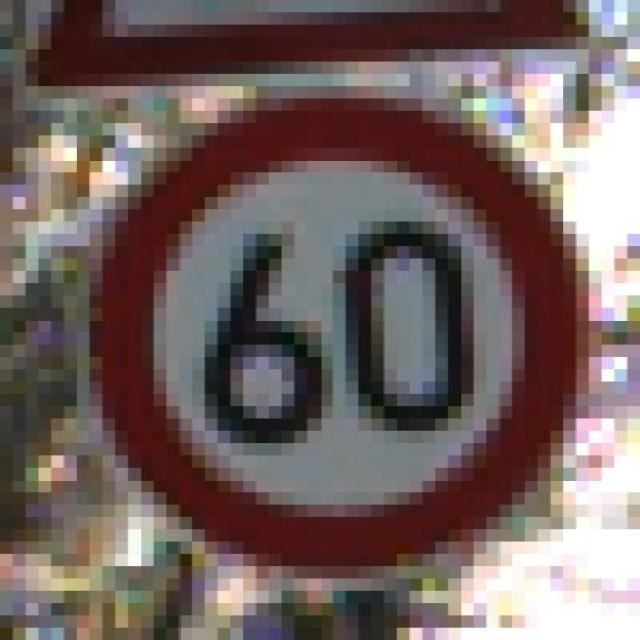forb_speed_over_60: (96, 96, 575, 579)
